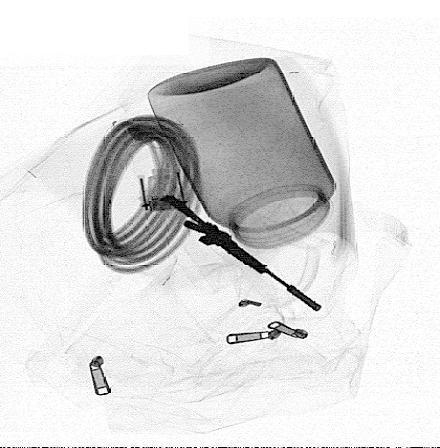Gun: (157, 194, 324, 314)
